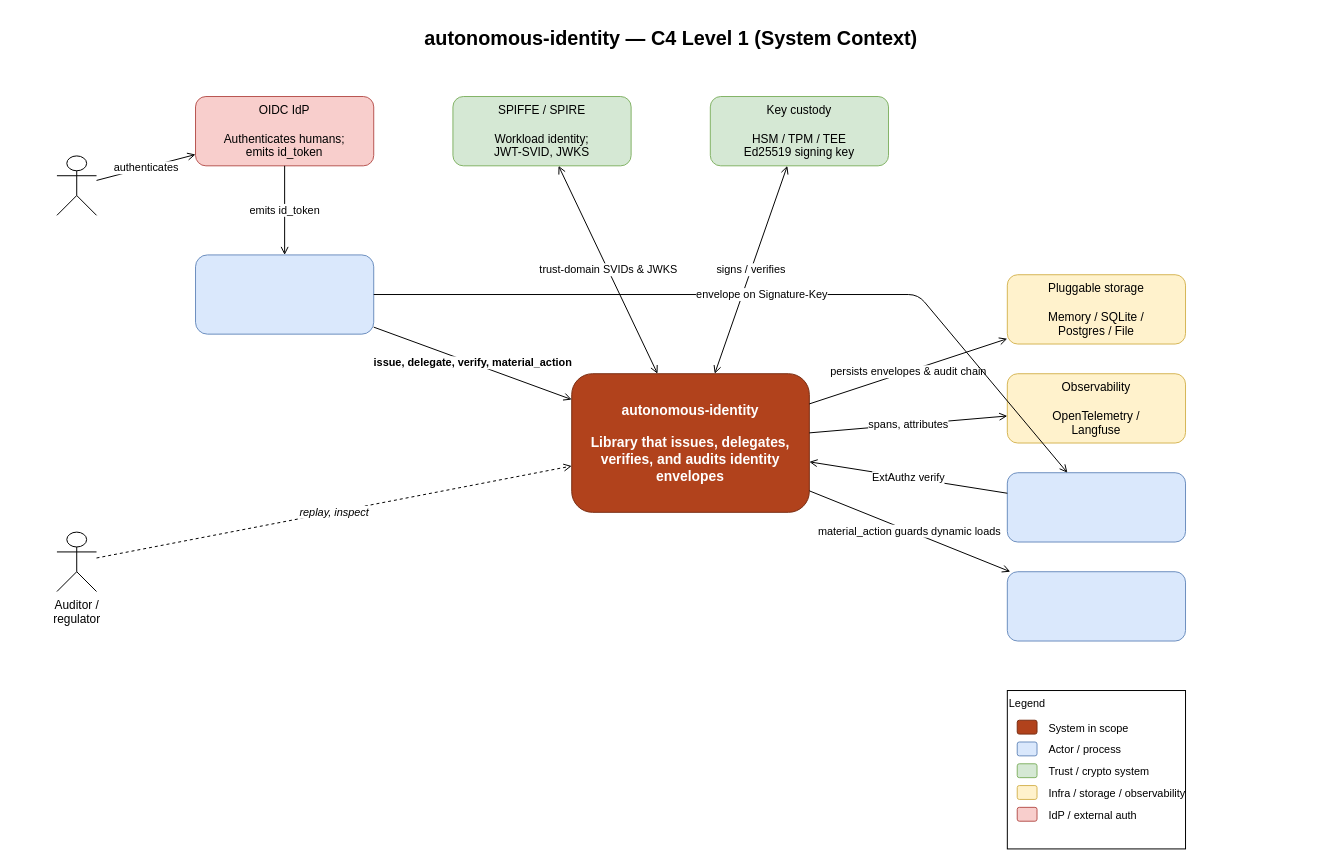
Some shapes in this 1340 by 866 pixel diagram are drawn without their labels. Here are the shapes that lost their labels. From the top down, the centre of each, then its label:
At pixel 76 185: "Human user / operator".
At pixel 284 294: "Autonomous agent process".
At pixel 1096 507: "Policy enforcement point agentgateway / Envoy / custom gateway".
At pixel 1096 606: "Capability catalogue SKILL.md, MCP tool registry, plugins".
